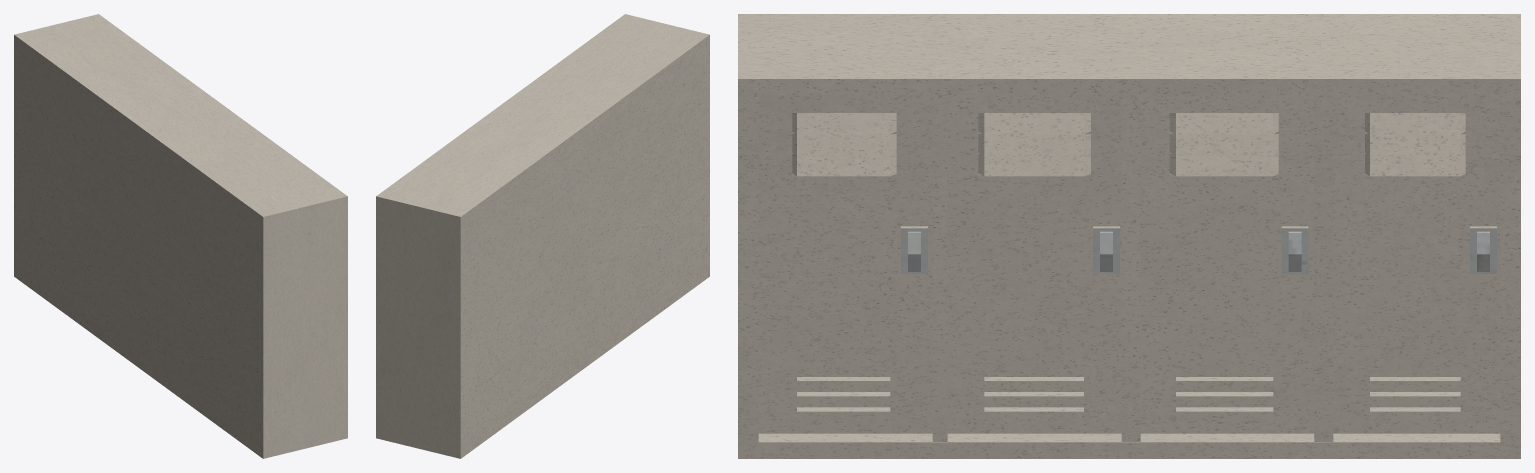
The model's file is casilleroslimpiosCUARTOinicial.fbx.
The picture shows the model from 3 angles, left to right: view 1: azimuth 30°, elevation 25°; view 2: azimuth 150°, elevation 25°; view 3: azimuth 270°, elevation 25°; orthographic projection. The views are drawn at different scales.
Visible parts, largest first — view 1: Cube.254; view 2: Cube.254; view 3: Cube.254.
Part boxes in pixels (x1,y1,x2,y2): Cube.254: (14, 14, 347, 458); Cube.254: (376, 14, 709, 458); Cube.254: (738, 14, 1520, 458).
Size of the model in its own units: 73.68 by 201 by 375.
Materials: 2 (2 with a texture image).
